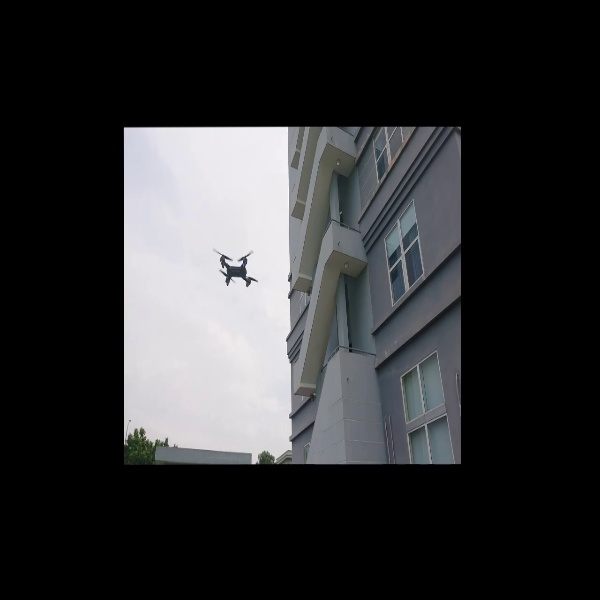drone: (210, 242, 264, 299)
